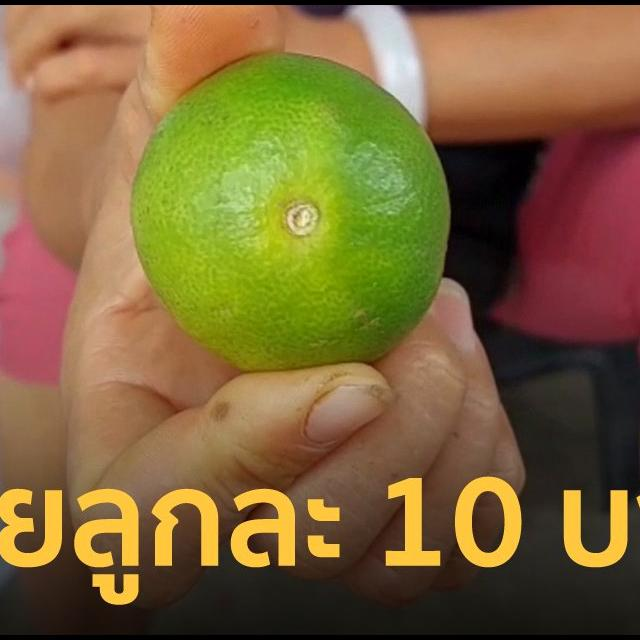lime: (123, 44, 459, 403)
